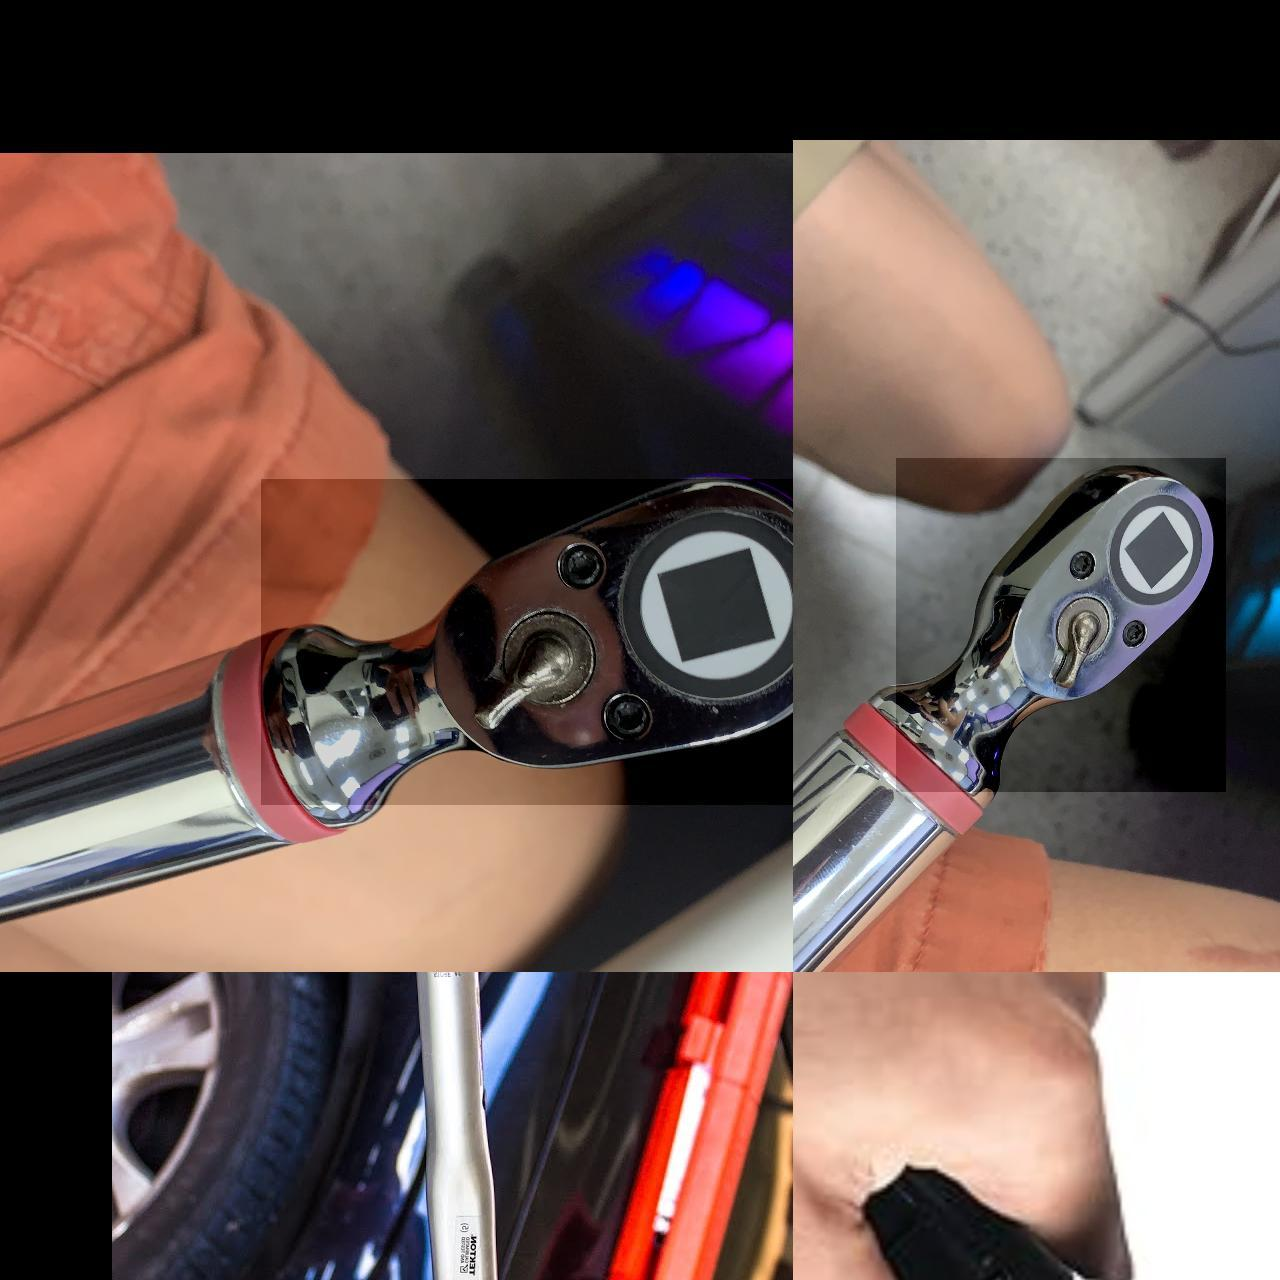Tool: (260, 479, 794, 805), (896, 458, 1225, 792)
